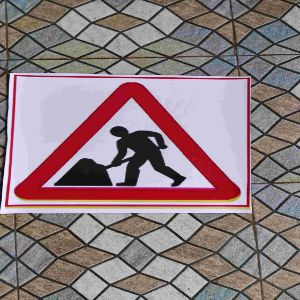men at work: (18, 79, 240, 202)
